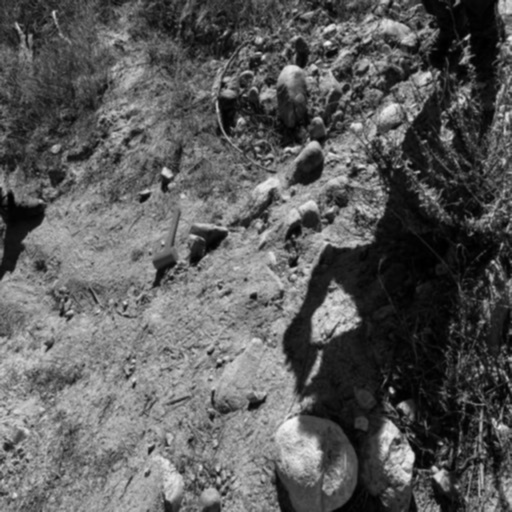mallet: (152, 206, 182, 270)
